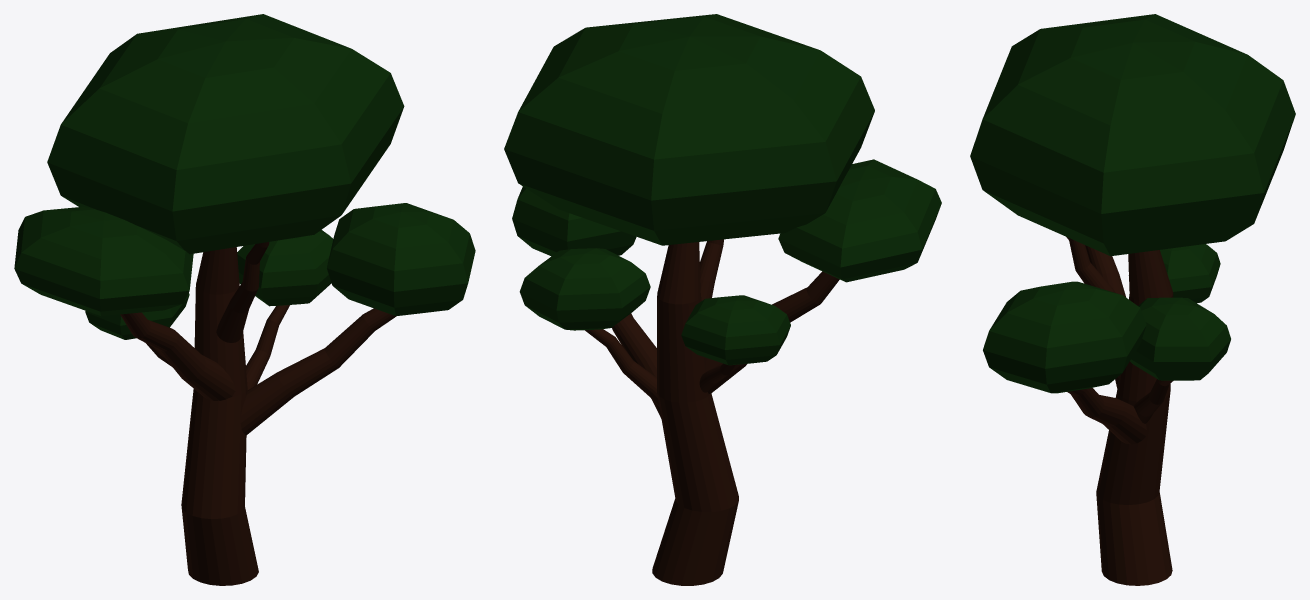
File: treeC_textured.fbx
3 views of the same model, side by side, from view 1: azimuth 30°, elevation 25°; view 2: azimuth 150°, elevation 25°; view 3: azimuth 270°, elevation 25° (orthographic).
Parts seen in each view (by area): view 1: bigleaves, bigbranches; view 2: bigleaves, bigbranches; view 3: bigleaves, bigbranches.
Boxes of the visible parts, left/top/right/bottom form: bigleaves: left=14, top=14, right=475, bottom=339; bigbranches: left=120, top=242, right=396, bottom=585; bigleaves: left=504, top=14, right=941, bottom=365; bigbranches: left=585, top=239, right=839, bottom=585; bigleaves: left=970, top=14, right=1295, bottom=393; bigbranches: left=1066, top=237, right=1173, bottom=585.
Size of the model in its own units: 14.76 by 17.52 by 9.79.
